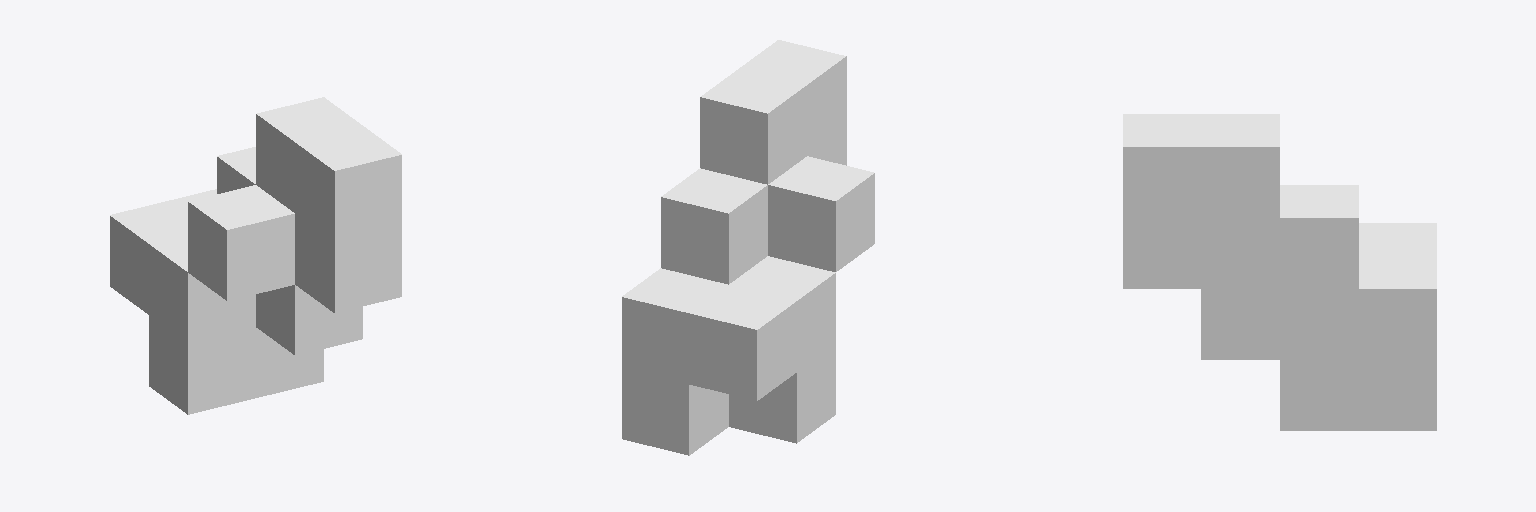
The model's file is Bunny-Bit-7-(White).obj.
3 views of the same model, side by side, from view 1: azimuth 30°, elevation 25°; view 2: azimuth 150°, elevation 25°; view 3: azimuth 270°, elevation 25° (orthographic).
Parts seen in each view (by area): view 1: object 1; view 2: object 1; view 3: object 1.
Boxes of the visible parts, <box> form: object 1: <box>110,97,401,414</box>; object 1: <box>622,40,874,455</box>; object 1: <box>1123,114,1436,430</box>.
Size of the model in its own units: 0.2 by 0.4 by 0.4.